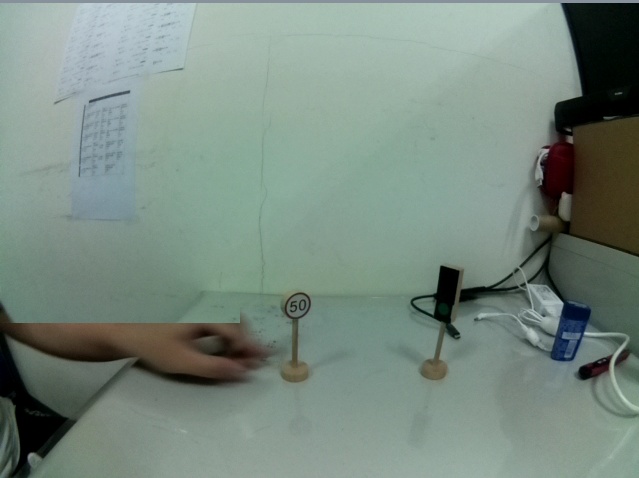Green: (433, 263, 463, 325)
Speed50: (280, 290, 311, 323)
